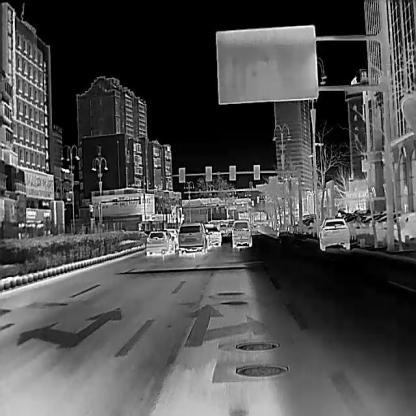car: (318, 216, 350, 250), (384, 209, 416, 241), (367, 210, 400, 239), (178, 220, 206, 253), (146, 229, 174, 255), (232, 219, 252, 247), (205, 227, 221, 246)
